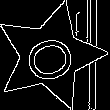O_E: (18, 26, 83, 86)
